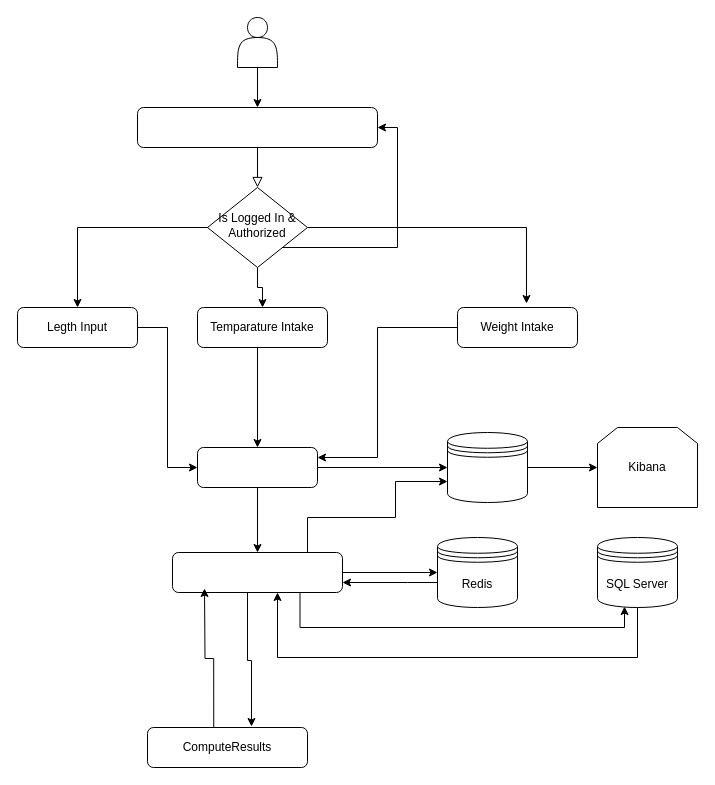
Image size: 715x785. Some labels were removed from this diagram. The shapes that lost their labels are listed below. From the top down, each one's centre as x and y in pixels, then its label:
the point at 257,127: Login/Register
the point at 257,467: Log Usage
the point at 487,467: Elasticserach
the point at 257,572: GetFomula
